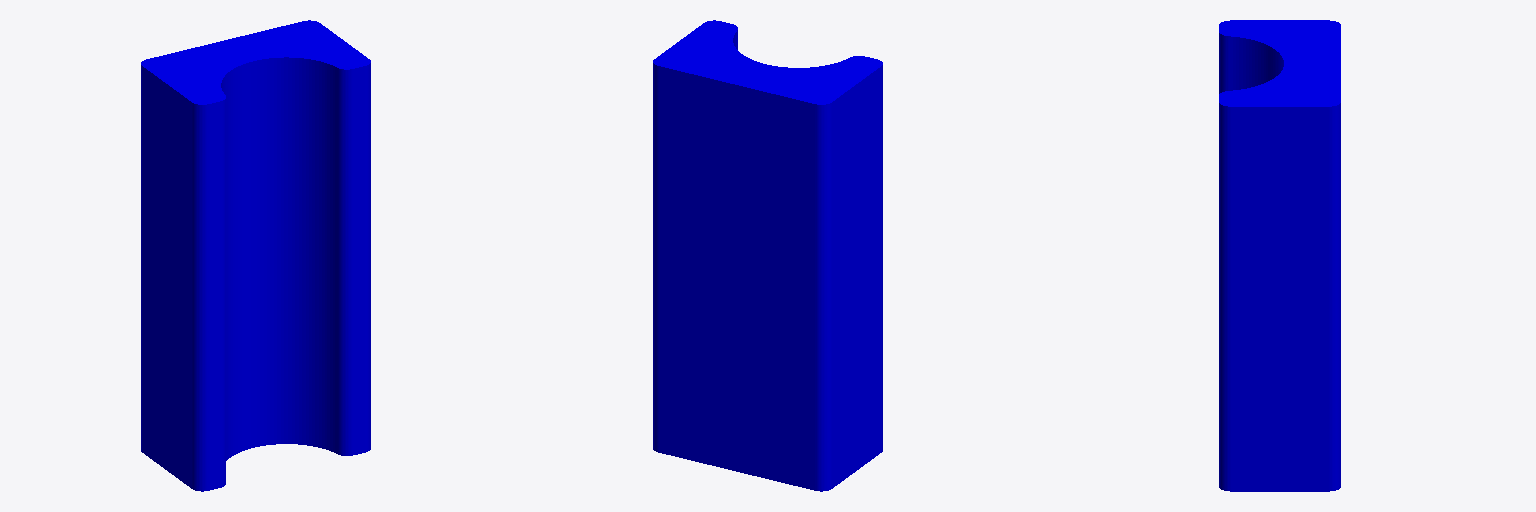
robot.urdf — board2_block6:
<?xml version="1.0"?>
<robot name="board2_block6">
    <link name="board2_block6">
        <visual>
            <origin xyz="0 0 0 " rpy=" 0 0 0"/>
            <geometry>
                <mesh filename="../meshes/SIMO_Board2_Block6.stl" scale="0.001 0.001 0.001"/>
            </geometry>
            <material name="red">
                <color rgba="0.0 0.0 1.0 1.0"/>
            </material>
        </visual>
        <collision>
            <origin xyz="0 0 0" rpy="0 0 0"/>
            <geometry>
                <mesh filename="../meshes/SIMO_Board2_Block6.stl" scale="0.001 0.001 0.001"/>
            </geometry>
        </collision>
    </link>
</robot>

--- Facts derived from the render (not from the file) ---
3 views of the same robot in one strip: view 1: azimuth 30°, elevation 25°; view 2: azimuth 150°, elevation 25°; view 3: azimuth 270°, elevation 25° (orthographic).
Model board2_block6 with 1 links and 0 joints (none), rooted at board2_block6, posed all joints at 0.
Visible links, largest first — view 1: board2_block6; view 2: board2_block6; view 3: board2_block6.
Boxes of the visible links, box(x1,y1,x2,y2) form: board2_block6: box(141, 20, 370, 491); board2_block6: box(653, 20, 882, 491); board2_block6: box(1219, 20, 1340, 491).
Bounding box of the posed robot: 0.048 × 0.0288 × 0.1 m (x, y, z).
Meshes: 1 distinct files referenced, 1 mesh visuals loaded (1 ASCII STL).
